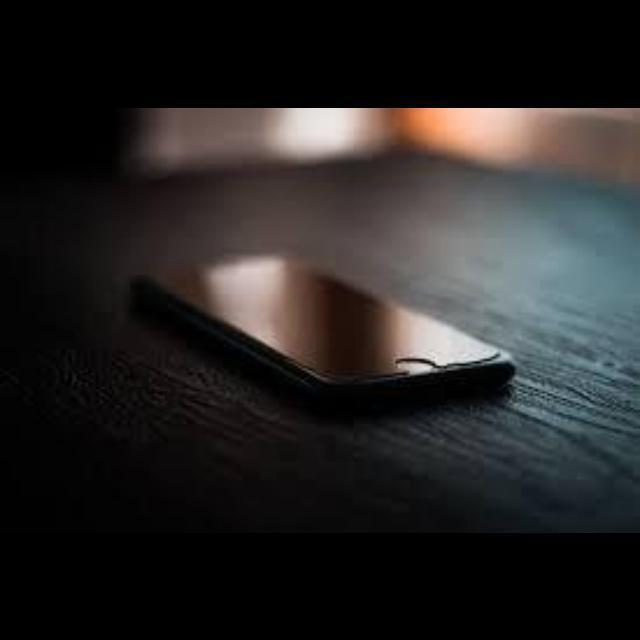phone: (125, 213, 561, 442)
